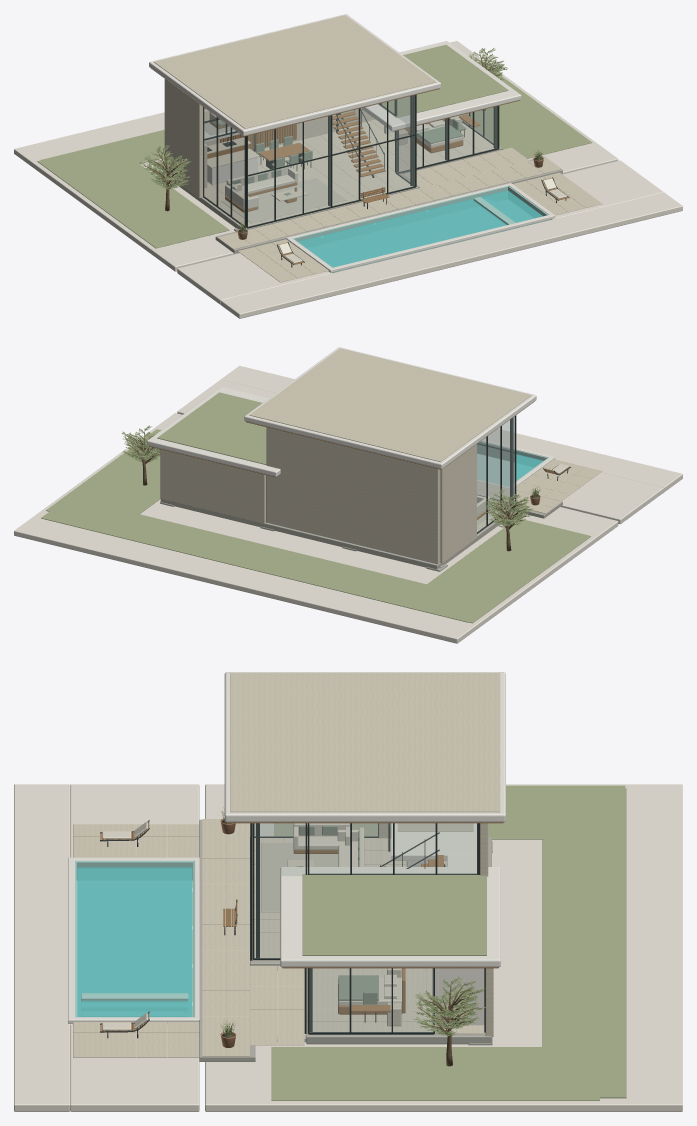
Rendered from glass-residence-DYoc9dLS.glb.
3 renders of one model, top to bottom at view 1: azimuth 30°, elevation 25°; view 2: azimuth 150°, elevation 25°; view 3: azimuth 270°, elevation 25°, orthographic. The views are drawn at different scales.
Parts seen in each view (by area): view 1: phase_04_envelope.stone_travertine, phase_01_ground.ground_sand, phase_05_glazing.glass_clear, phase_01_ground.lawn, phase_04_envelope.stone_ivory, phase_06_details.pool_water, phase_05_glazing.bronze, phase_06_details.lawn, phase_06_details.soffit_oak, phase_06_details.rug, phase_02_foundation.pool_tile, phase_02_foundation.concrete (+10 smaller); view 2: phase_04_envelope.stone_travertine, phase_01_ground.ground_sand, phase_01_ground.lawn, phase_04_envelope.stone_ivory, phase_06_details.lawn, phase_05_glazing.glass_clear, phase_02_foundation.concrete, phase_02_foundation.pool_tile, phase_06_details.HF_olive_foliage.001, phase_06_details.HF_olive_leaf_silver.001, phase_06_details.HF_olive_bark.001, phase_05_glazing.bronze (+1 smaller); view 3: phase_04_envelope.stone_travertine, phase_01_ground.ground_sand, phase_01_ground.lawn, phase_05_glazing.glass_clear, phase_04_envelope.stone_ivory, phase_06_details.pool_water, phase_06_details.lawn, phase_02_foundation.concrete, phase_05_glazing.bronze, phase_02_foundation.pool_tile, phase_06_details.rug, phase_06_details.linen (+9 smaller).
Boxes of the visible parts, x1=… form: phase_04_envelope.stone_travertine: x1=154, y1=15, x2=601, y2=282; phase_01_ground.ground_sand: x1=14, y1=41, x2=682, y2=318; phase_05_glazing.glass_clear: x1=204, y1=95, x2=497, y2=226; phase_01_ground.lawn: x1=37, y1=56, x2=592, y2=248; phase_04_envelope.stone_ivory: x1=149, y1=14, x2=555, y2=272; phase_06_details.pool_water: x1=297, y1=190, x2=542, y2=267; phase_05_glazing.bronze: x1=203, y1=94, x2=499, y2=228; phase_06_details.lawn: x1=378, y1=44, x2=508, y2=117; phase_06_details.soffit_oak: x1=207, y1=111, x2=480, y2=212; phase_06_details.rug: x1=204, y1=110, x2=346, y2=223; phase_02_foundation.pool_tile: x1=292, y1=186, x2=550, y2=273; phase_02_foundation.concrete: x1=162, y1=120, x2=562, y2=253; phase_04_envelope.stone_travertine: x1=160, y1=348, x2=602, y2=564; phase_01_ground.ground_sand: x1=14, y1=366, x2=682, y2=643; phase_01_ground.lawn: x1=41, y1=429, x2=591, y2=623; phase_04_envelope.stone_ivory: x1=147, y1=347, x2=555, y2=488; phase_06_details.lawn: x1=157, y1=392, x2=266, y2=464; phase_05_glazing.glass_clear: x1=477, y1=416, x2=514, y2=531; phase_02_foundation.concrete: x1=160, y1=481, x2=562, y2=571; phase_02_foundation.pool_tile: x1=477, y1=441, x2=548, y2=486; phase_06_details.HF_olive_foliage.001: x1=121, y1=425, x2=533, y2=526; phase_06_details.HF_olive_leaf_silver.001: x1=122, y1=426, x2=532, y2=527; phase_06_details.HF_olive_bark.001: x1=125, y1=427, x2=529, y2=551; phase_05_glazing.bronze: x1=477, y1=415, x2=516, y2=533; phase_04_envelope.stone_travertine: x1=73, y1=673, x2=500, y2=1057; phase_01_ground.ground_sand: x1=14, y1=784, x2=682, y2=1111; phase_01_ground.lawn: x1=271, y1=785, x2=626, y2=1100; phase_05_glazing.glass_clear: x1=254, y1=823, x2=477, y2=1032; phase_04_envelope.stone_ivory: x1=68, y1=672, x2=505, y2=1025; phase_06_details.pool_water: x1=77, y1=867, x2=192, y2=1016; phase_06_details.lawn: x1=302, y1=874, x2=486, y2=955; phase_02_foundation.concrete: x1=199, y1=819, x2=492, y2=1061; phase_05_glazing.bronze: x1=250, y1=823, x2=479, y2=1034; phase_02_foundation.pool_tile: x1=72, y1=861, x2=194, y2=1024; phase_06_details.rug: x1=261, y1=823, x2=473, y2=912; phase_06_details.linen: x1=293, y1=823, x2=401, y2=1005.
Size of the model in its own units: 27 by 7.29 by 23.8.
Materials: 25 (2 with a texture image).
